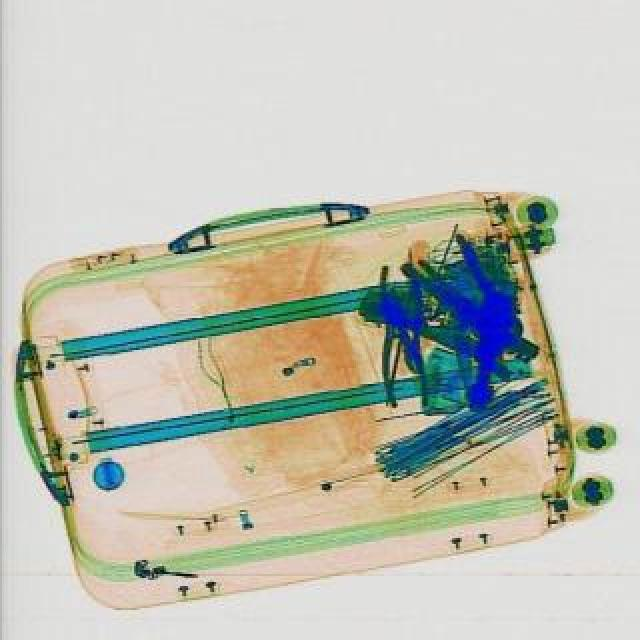wrench: (372, 264, 440, 380), (368, 298, 428, 412)
